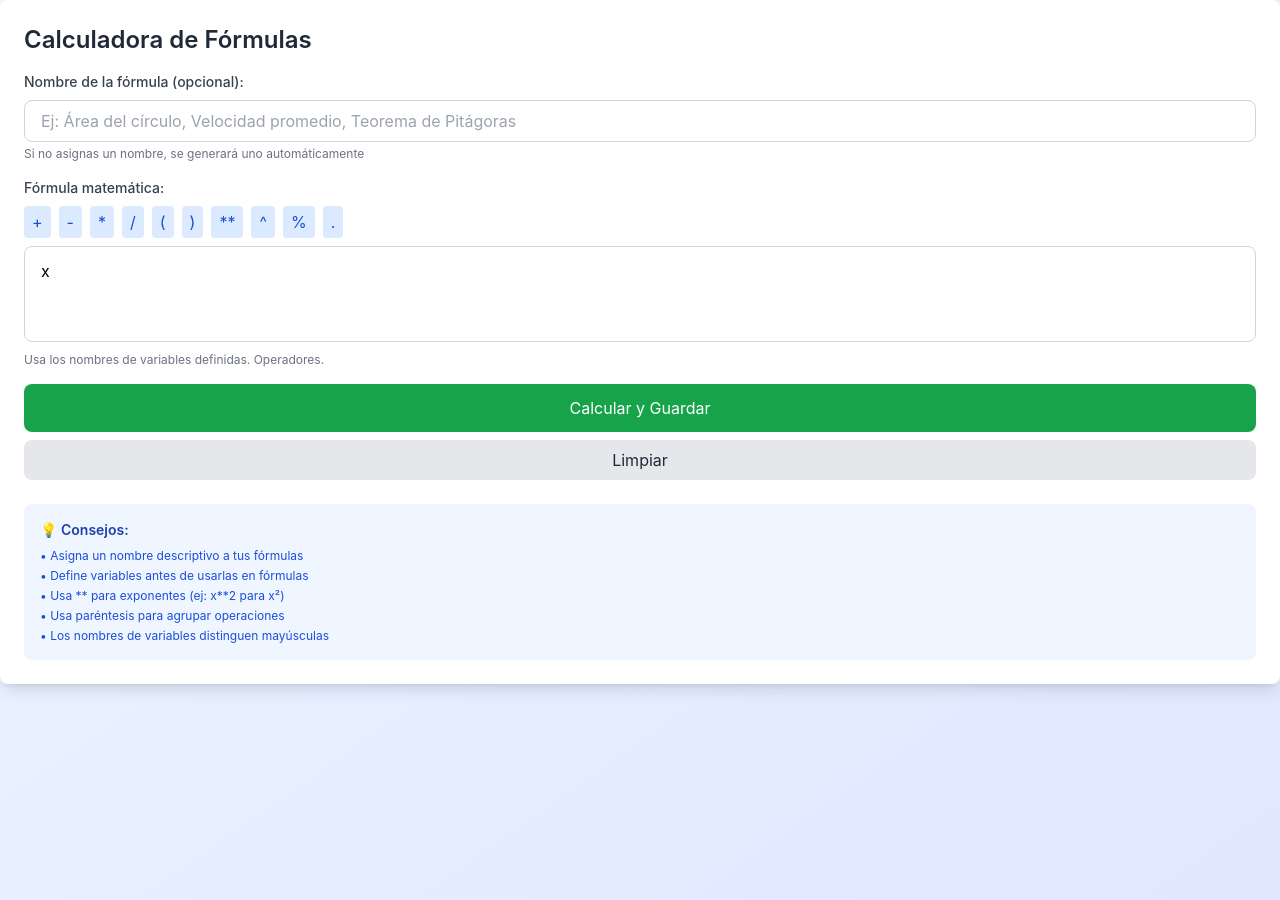
inserta un símbolo en la posición del cursor en el textarea
// Click en el botón "+"
Click the button titled "Insertar \"+\"".
click(37, 222)  # box x1=24 y1=206 x2=51 y2=238
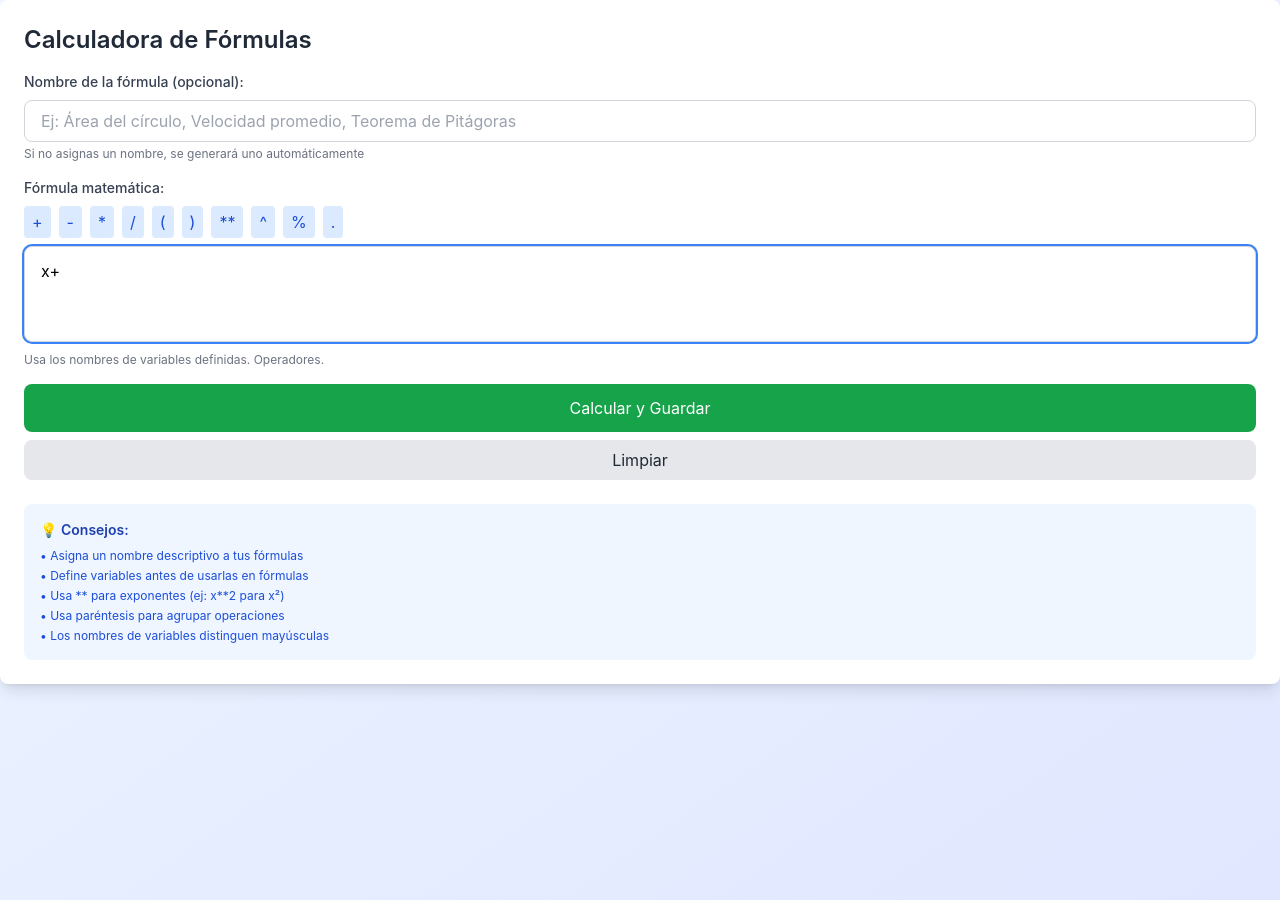
Expected: the text box with placeholder "Ej: x + y * 2, a^2 + b^2, (velocidad * tiempo) / 2" holds "x+", x1=24 y1=246 x2=1256 y2=342
